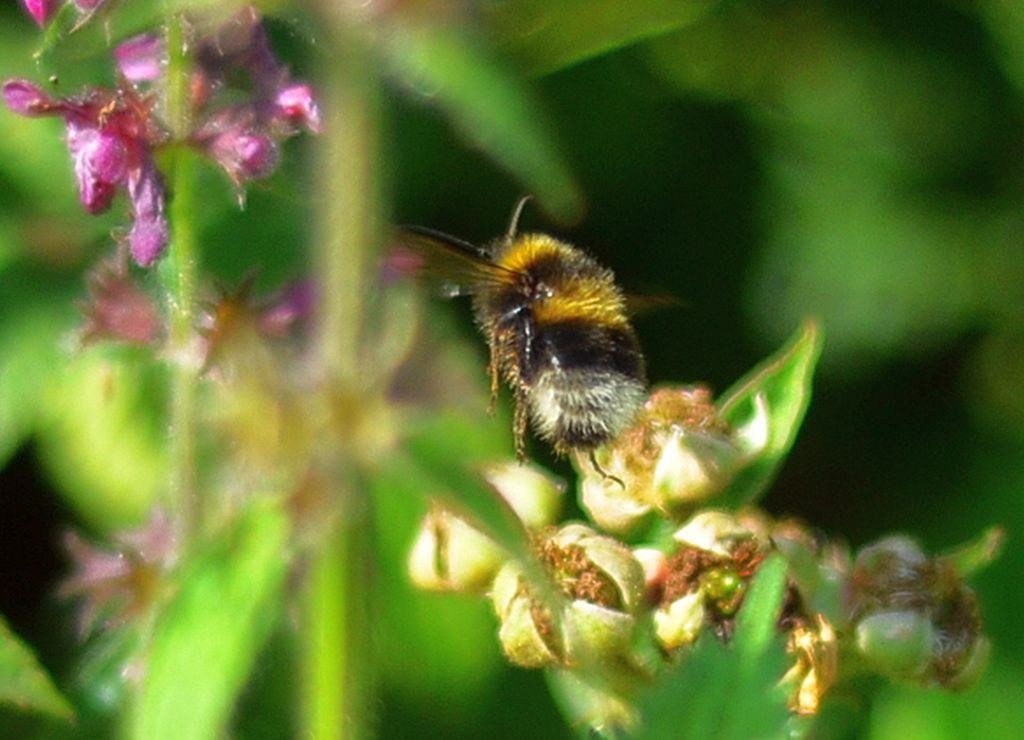bee: (390, 215, 681, 482)
